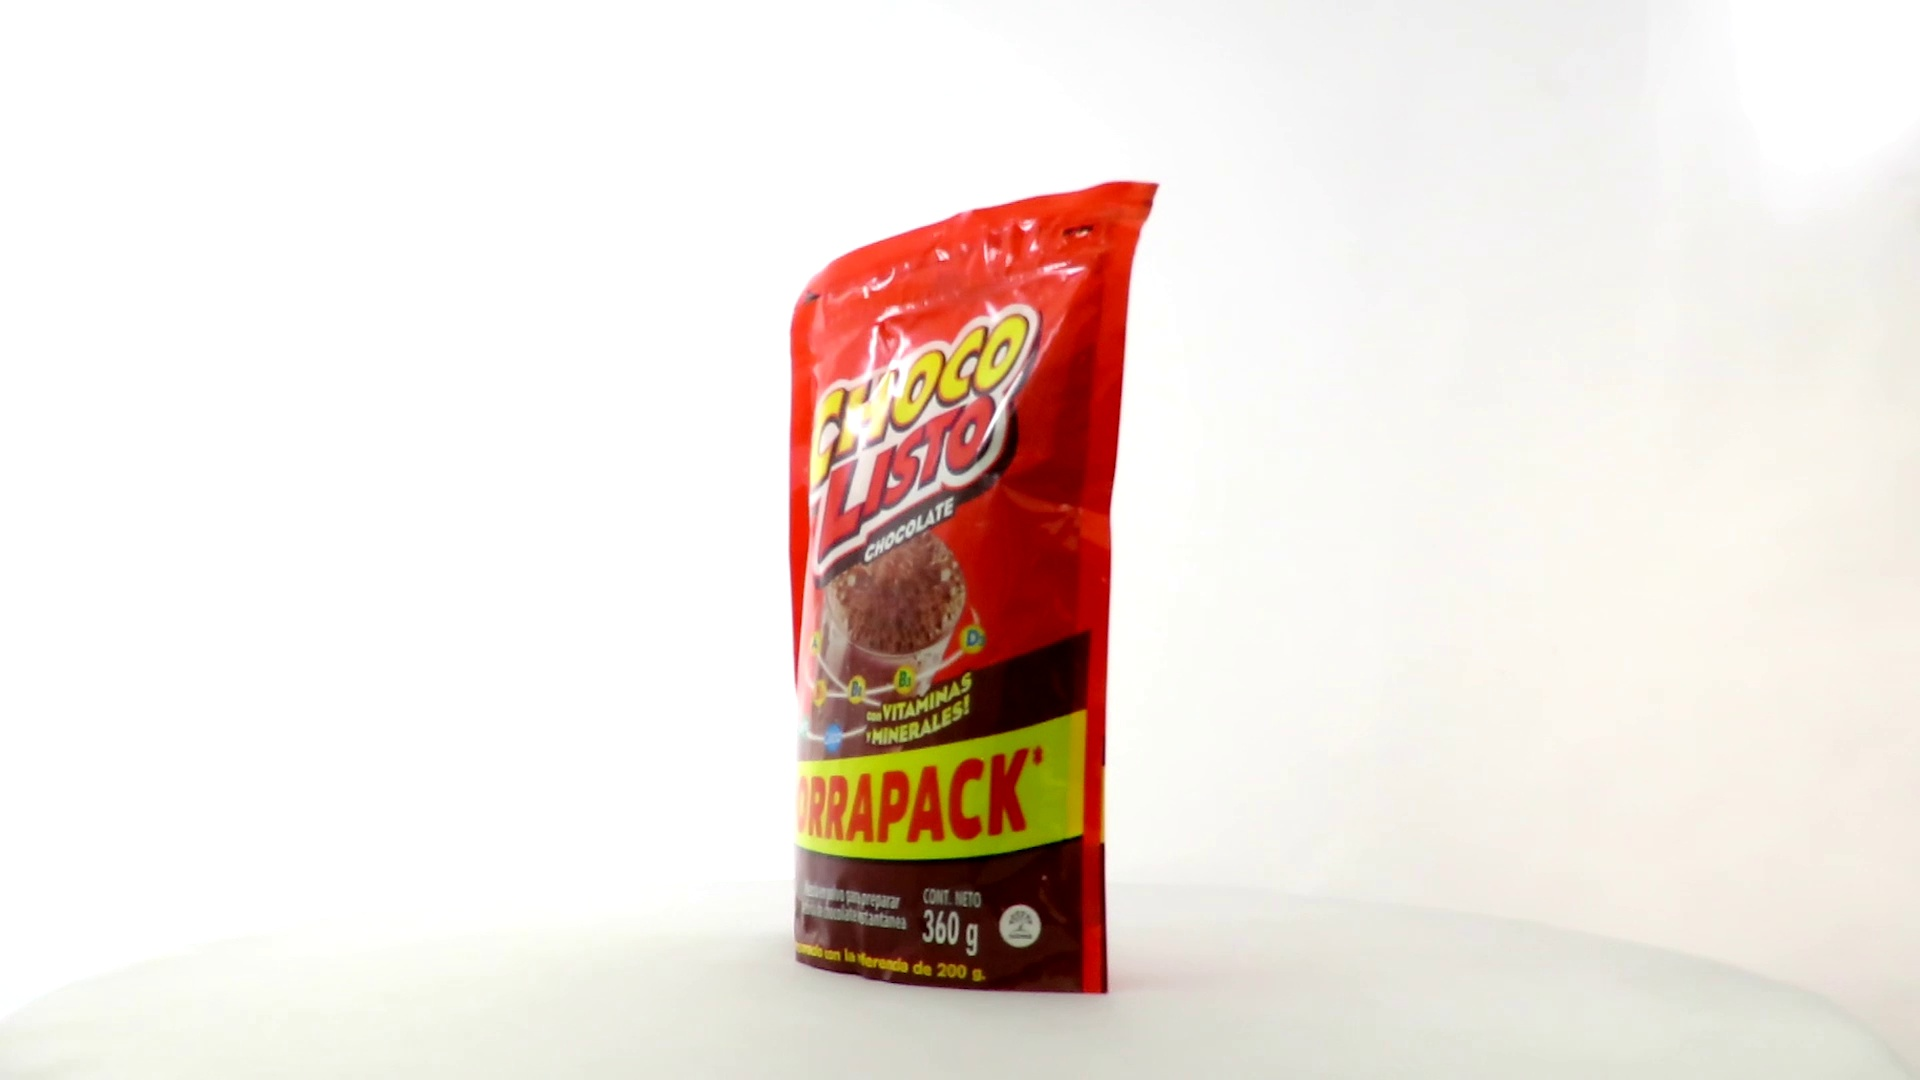COL0170103DYP36000: (732, 175, 1166, 1000)
